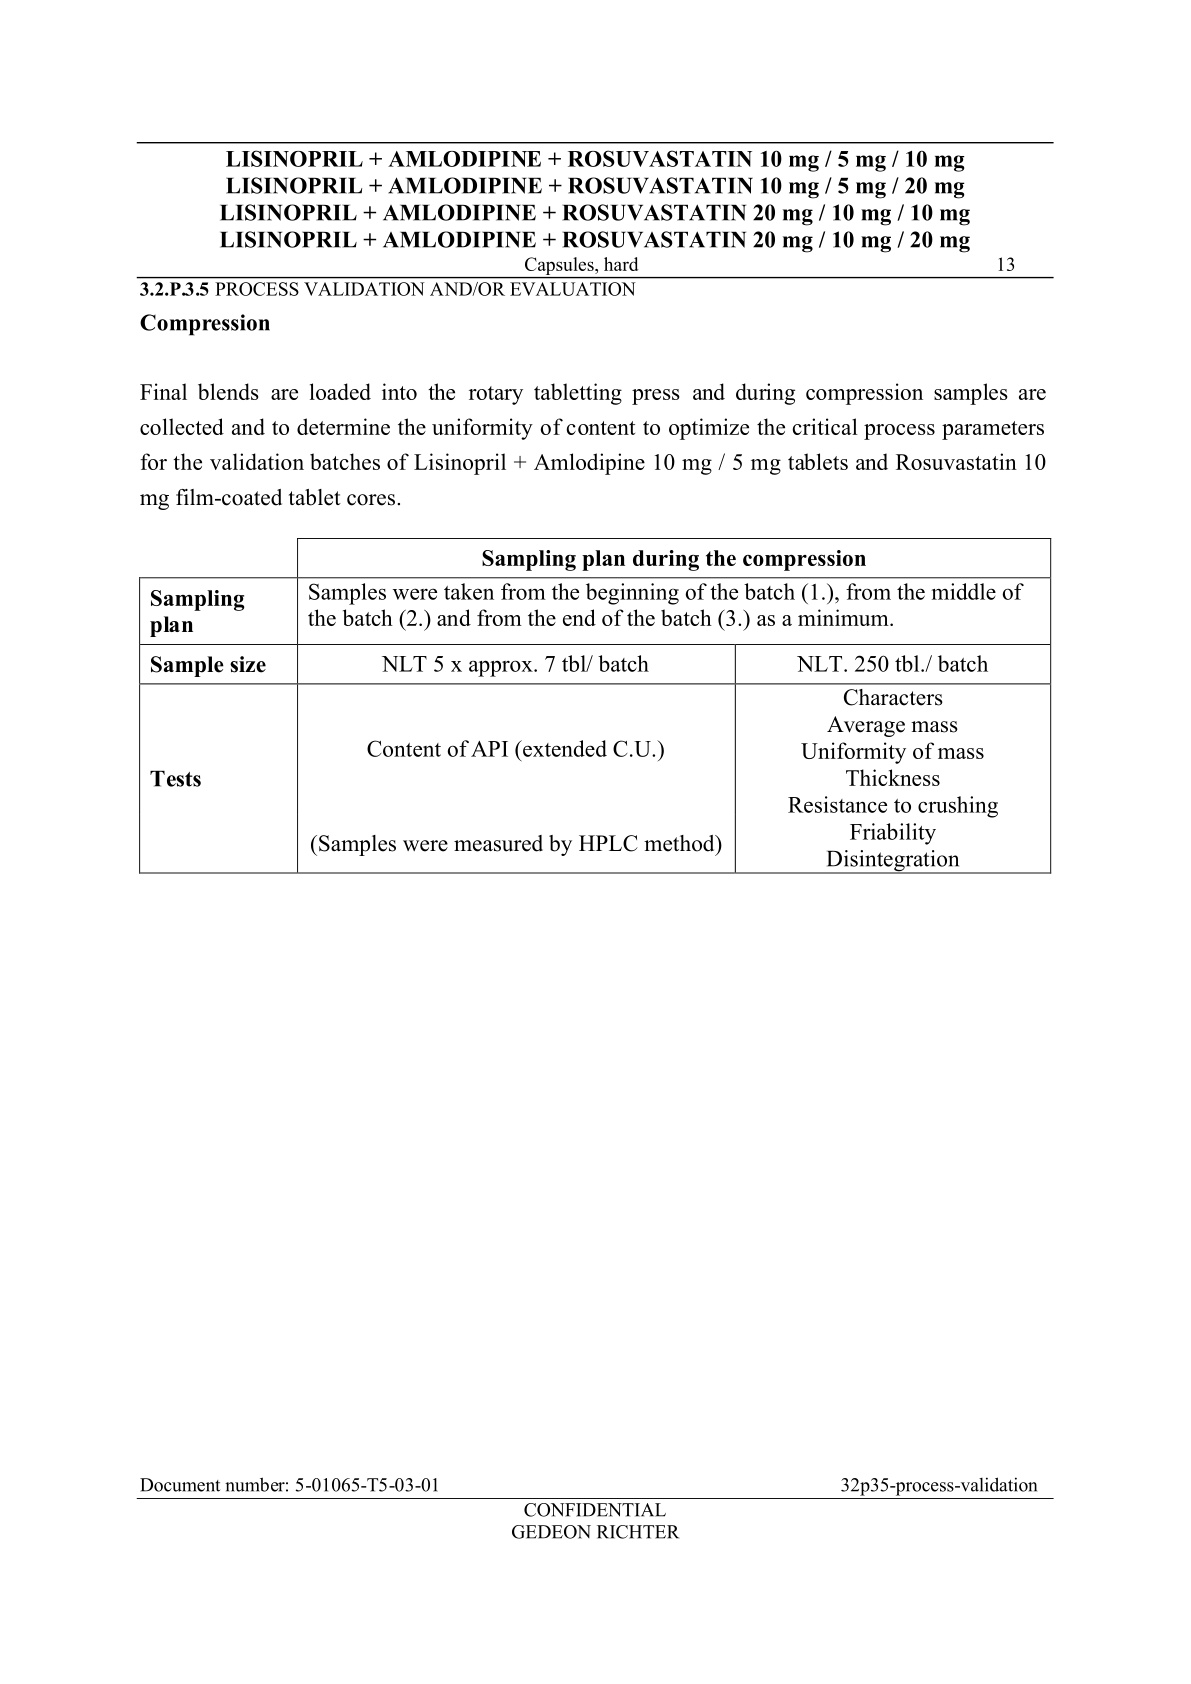merged_cells: (137, 537, 1052, 874)
